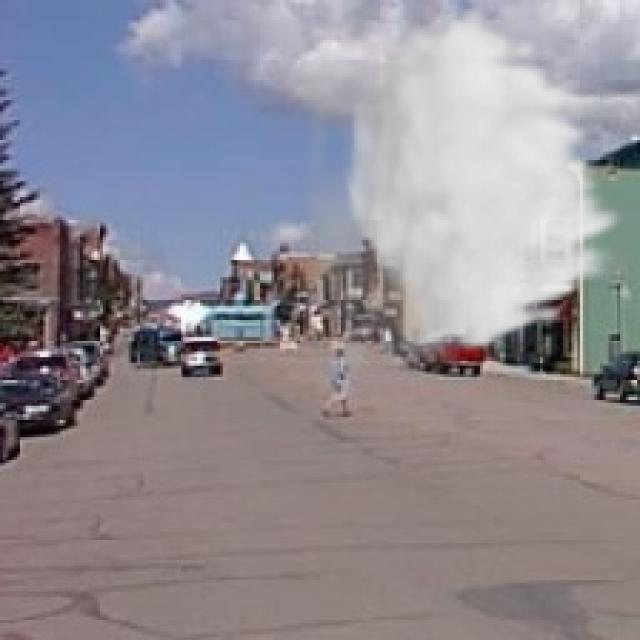Smoke: (277, 3, 629, 426)
